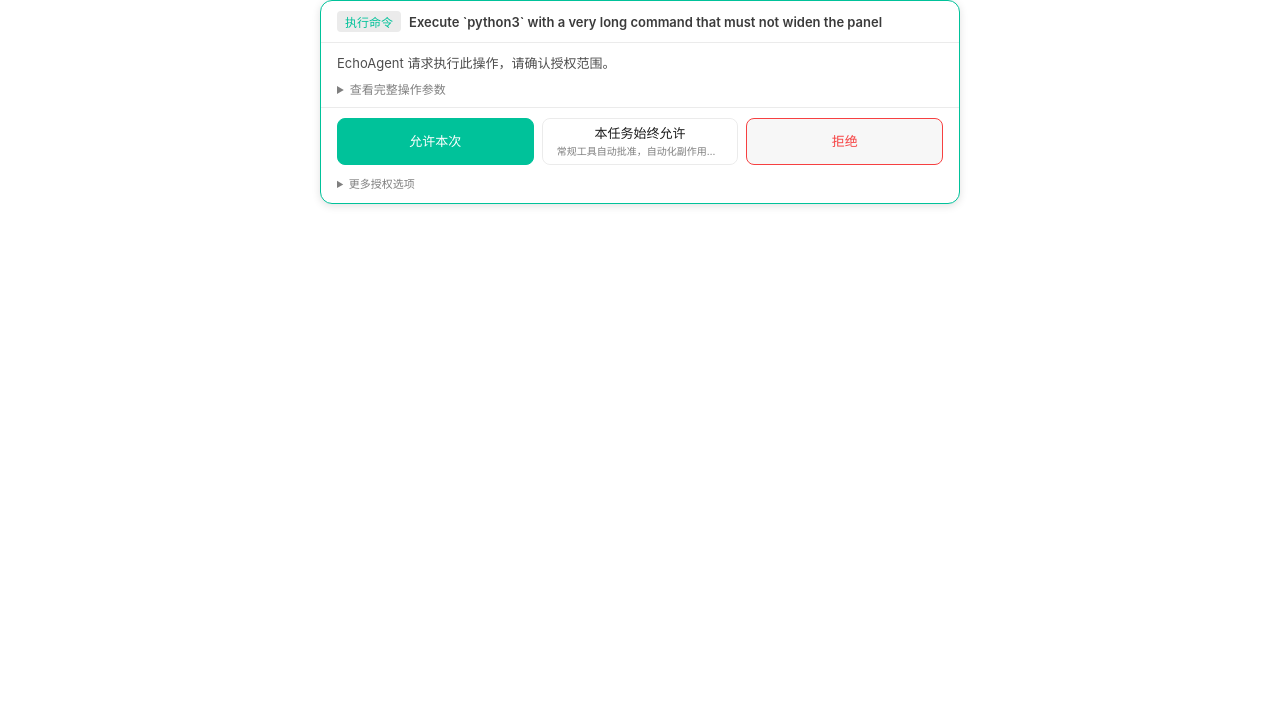
PermissionInlineCard › 模式切换失败时保留请求并展示可操作的错误
Step 1. Click the button "本任务始终允许 常规工具自动批准，自动化副作用仍确认" → [640, 142], box [542,118,738,165]
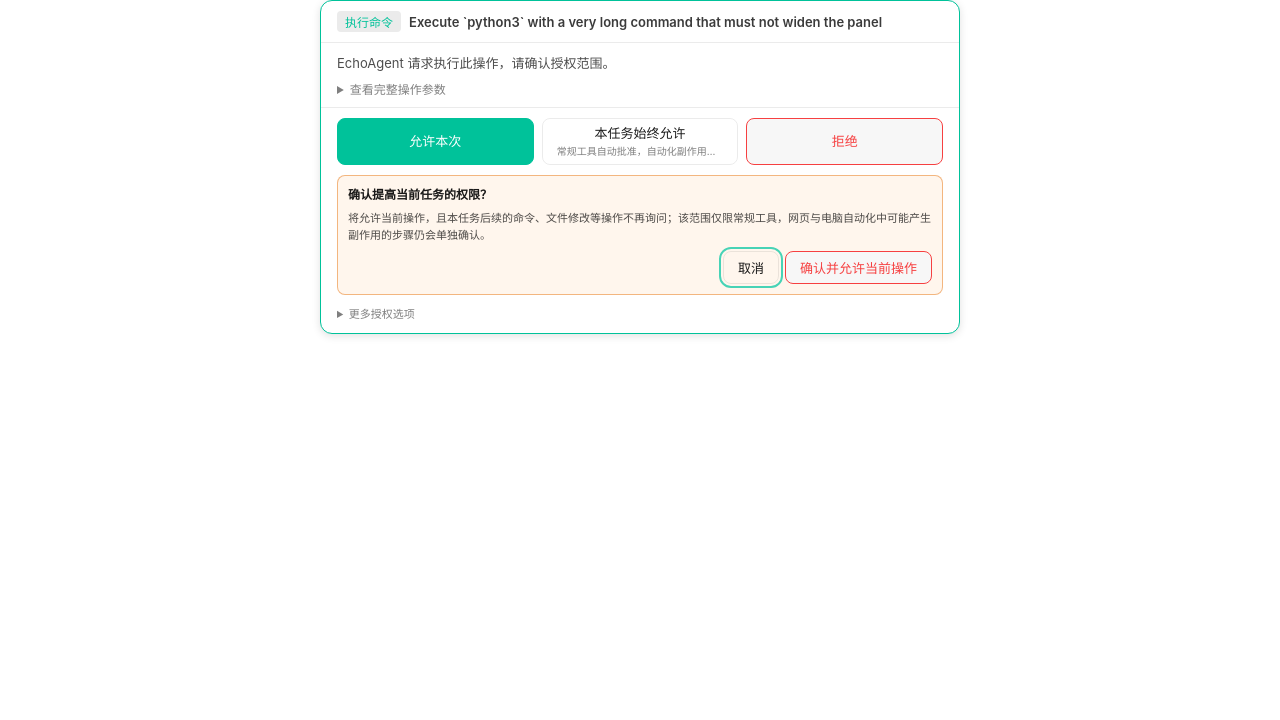
Step 2. Click the button "确认并允许当前操作" → [858, 268], box [785,251,932,284]
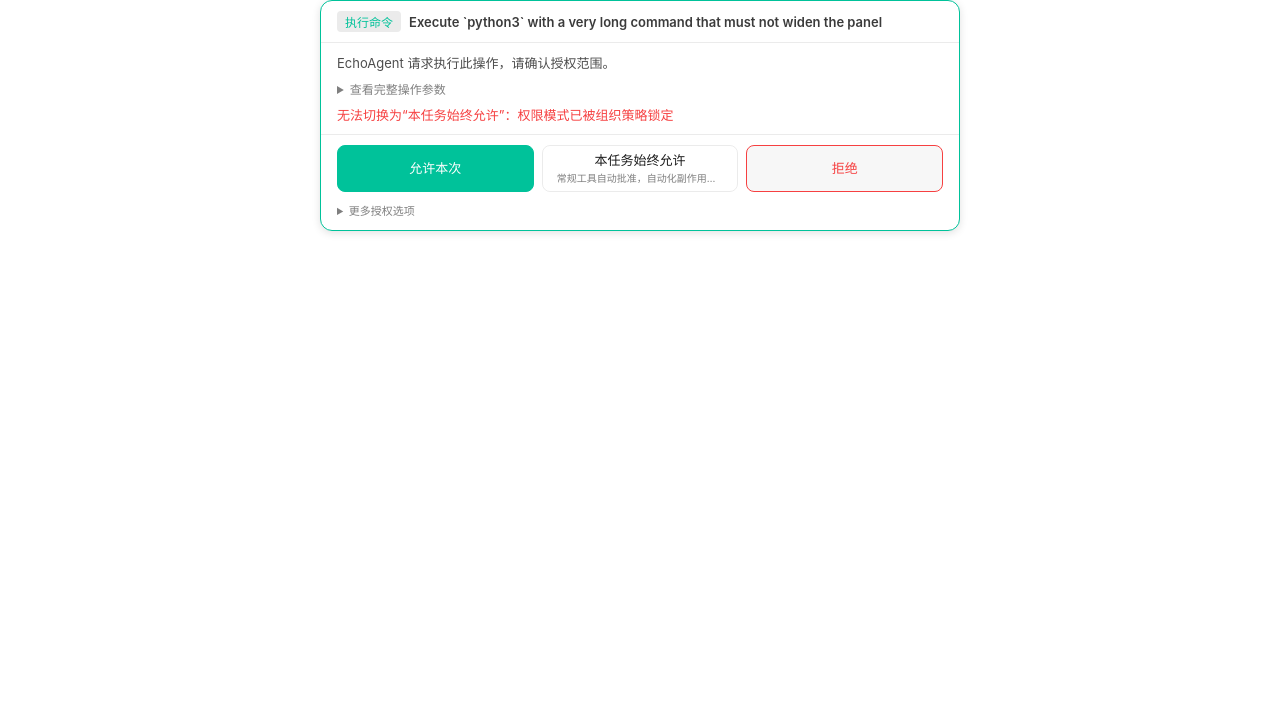
Expected: the element named "操作授权" is shown, [320,0,960,231]
Result: the message reads "无法切换为“本任务始终允许”：权限模式已被组织策略锁定" at [337,107,674,123]
